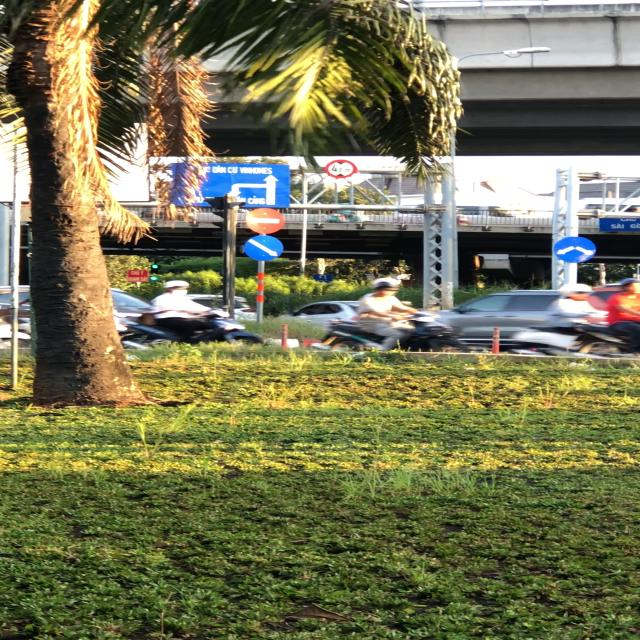Bien bao cam di nguoc chieu: (243, 204, 291, 236)
Bien bao han che chieu cao: (324, 157, 360, 181)
Bien bao huong phai di vong chuong ngai vat: (548, 236, 605, 265), (243, 235, 290, 263)
